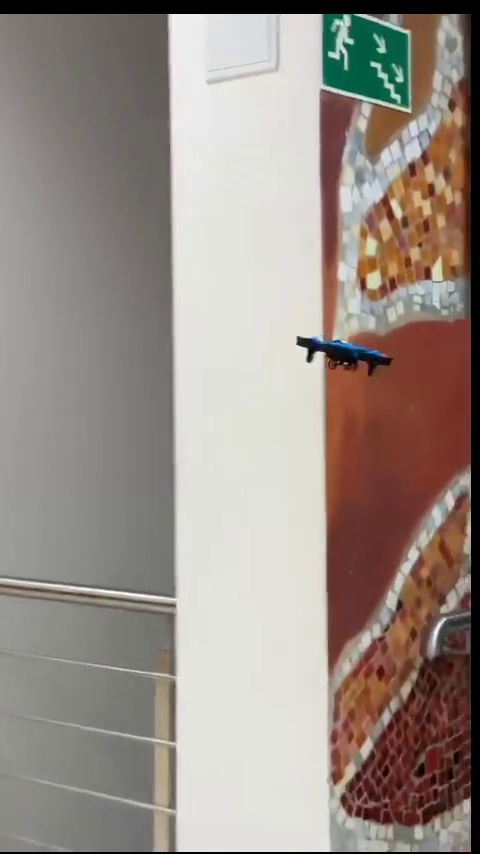drone: (294, 337, 391, 378)
